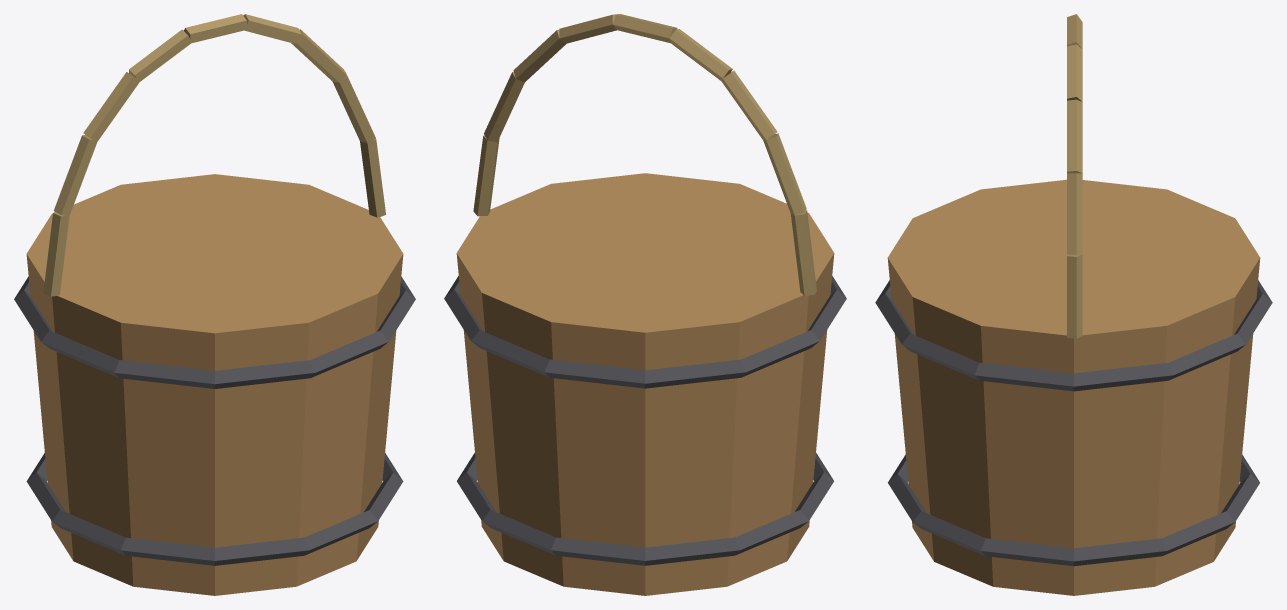
Rendered from bucket.glb.
3 renders of one model, left to right at view 1: azimuth 30°, elevation 25°; view 2: azimuth 150°, elevation 25°; view 3: azimuth 270°, elevation 25°, orthographic.
Parts seen in each view (by area): view 1: bucket; view 2: bucket; view 3: bucket.
Boxes of the visible parts, x1=… form: bucket: x1=14, y1=14, x2=415, y2=595; bucket: x1=444, y1=14, x2=846, y2=595; bucket: x1=875, y1=14, x2=1272, y2=595.
Bounding box in the file's own units: 0.32 × 0.4436 × 0.32.
